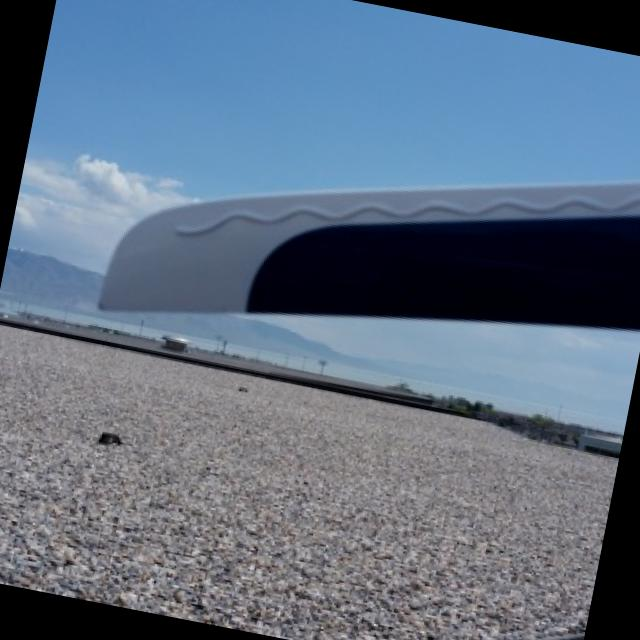healthy: (104, 182, 640, 328)
